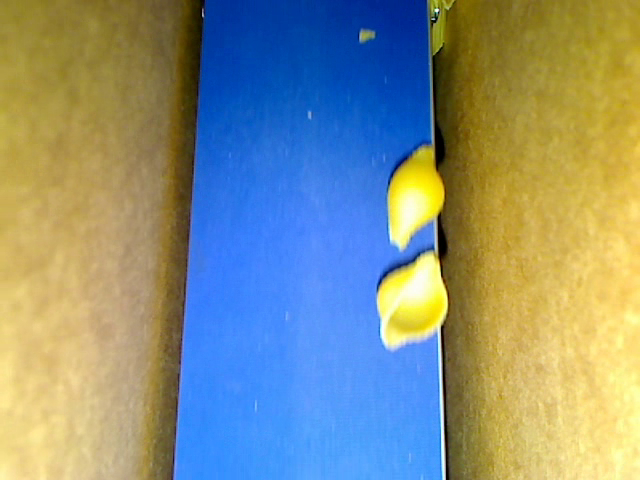penne: (430, 1, 445, 59), (441, 1, 457, 14)
shell: (373, 247, 448, 353), (386, 142, 443, 251)
